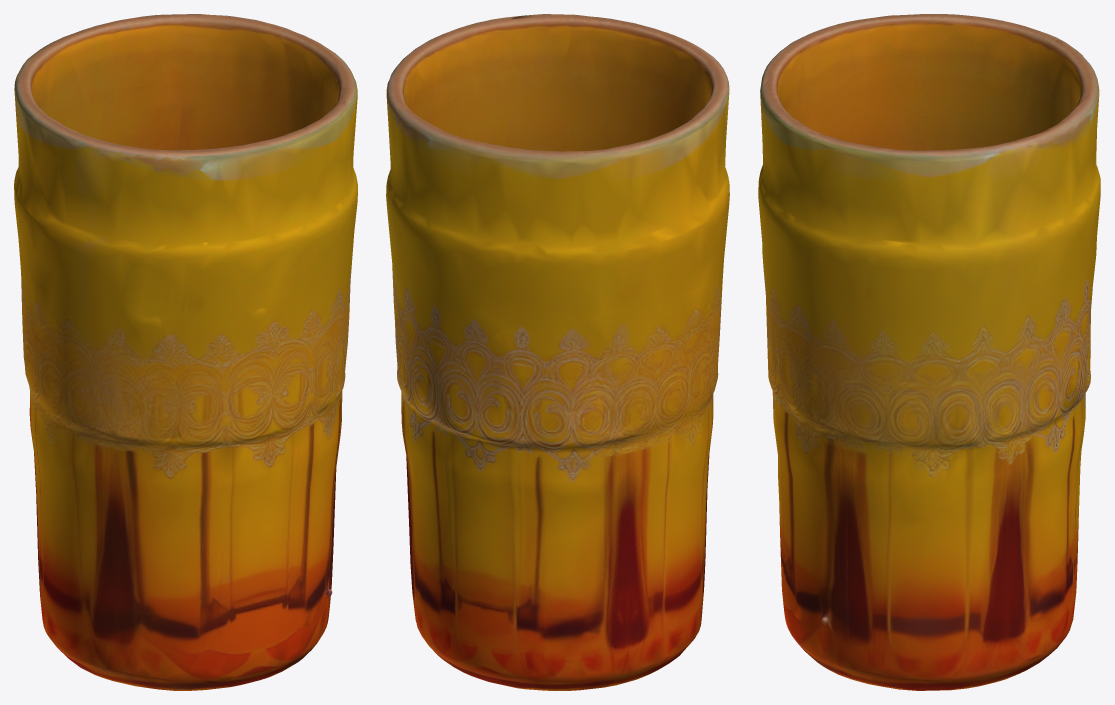
The model's file is glass.glb.
3 renders of one model, left to right at view 1: azimuth 30°, elevation 25°; view 2: azimuth 150°, elevation 25°; view 3: azimuth 270°, elevation 25°, orthographic.
Bounding box in the file's own units: 1.11 × 2 × 1.1.
Materials: 1 (1 with a texture image).
